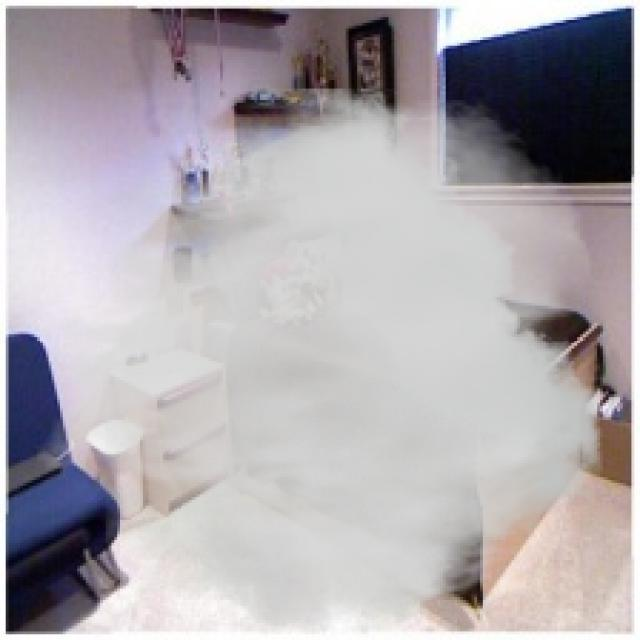Smoke: (34, 88, 606, 638)
